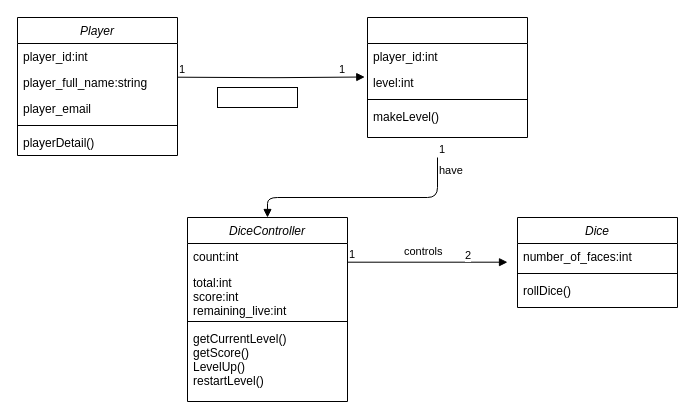
This 695x419 diagram has some shape labels left out. The shapes that lost their labels are listed below. From the top down, each one's box as (x1, y1, x2, y2) in pixels, then its label:
(216, 86, 298, 108): can
(366, 16, 528, 138): DiceGame
